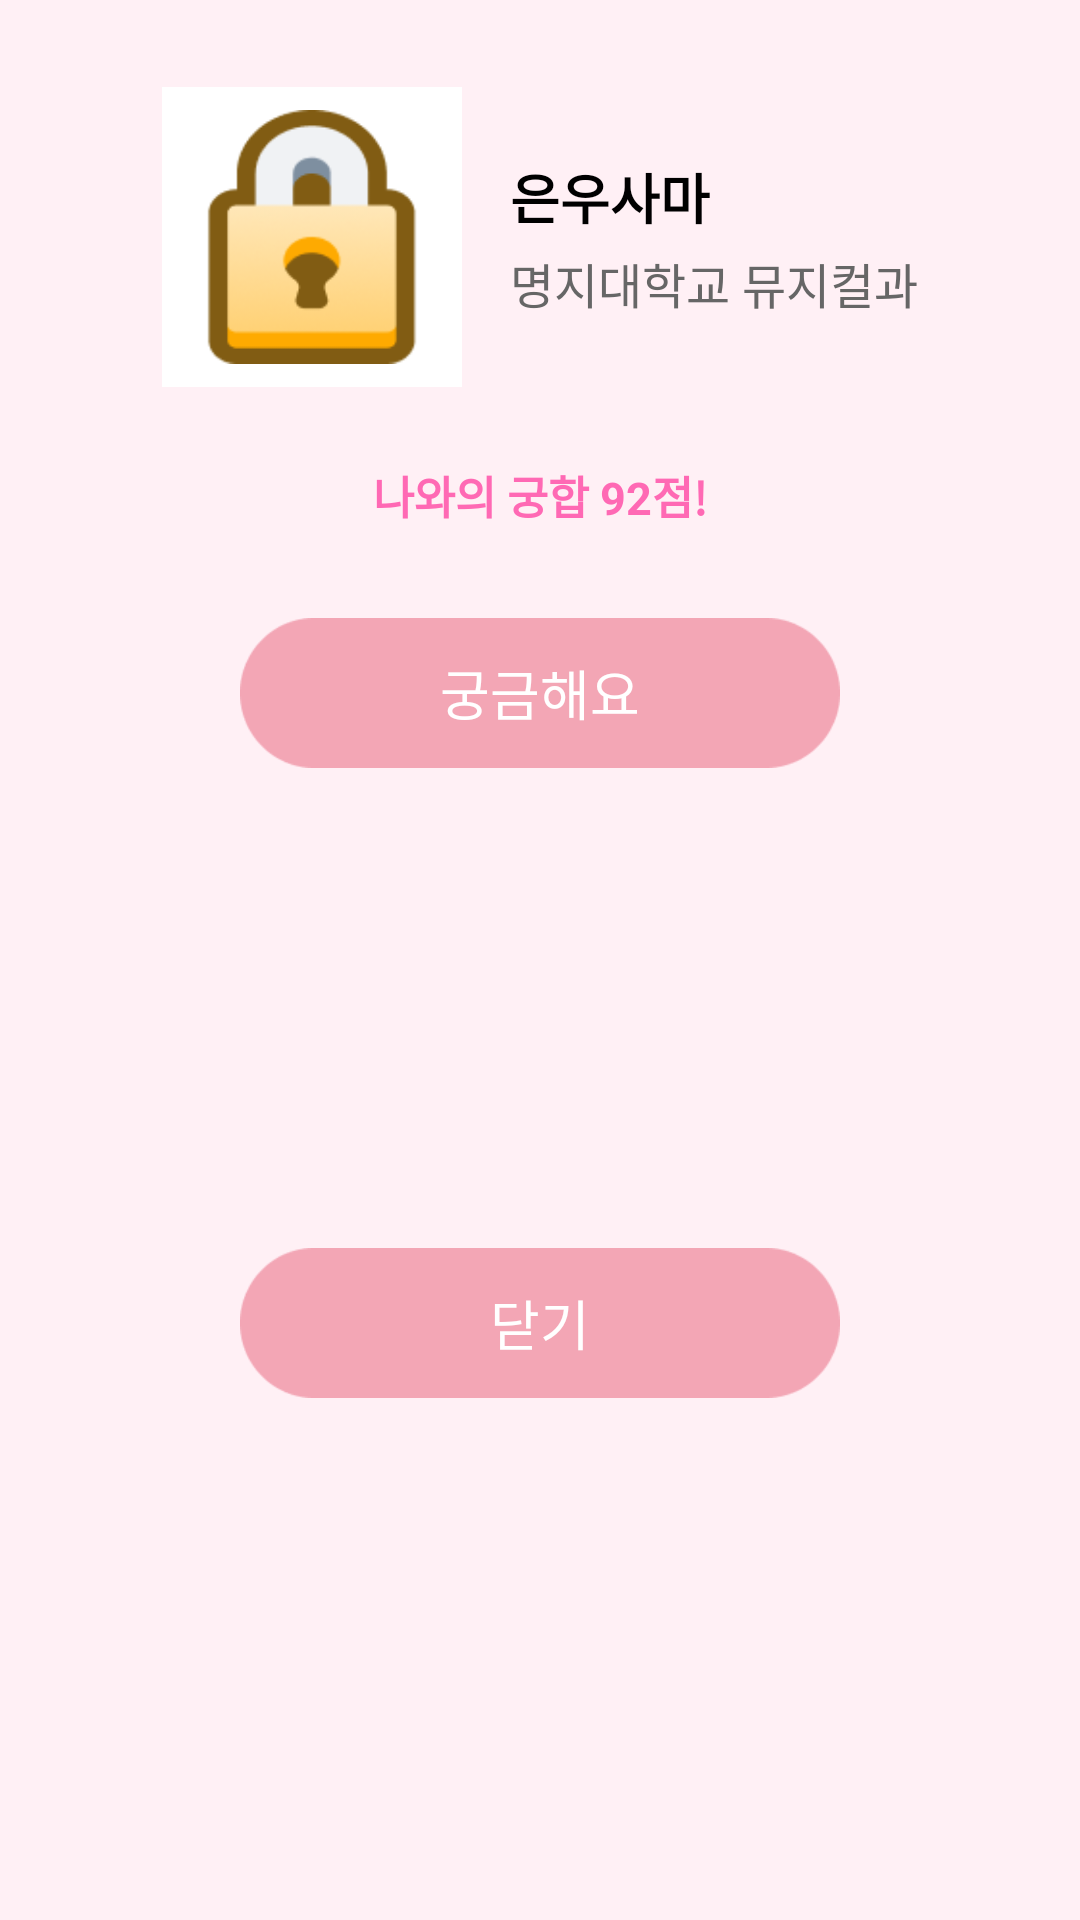

Named icons in this screenshot (1080px x 1920px) and their centers, [x,y]:
잠금 아이콘: [312,237]
